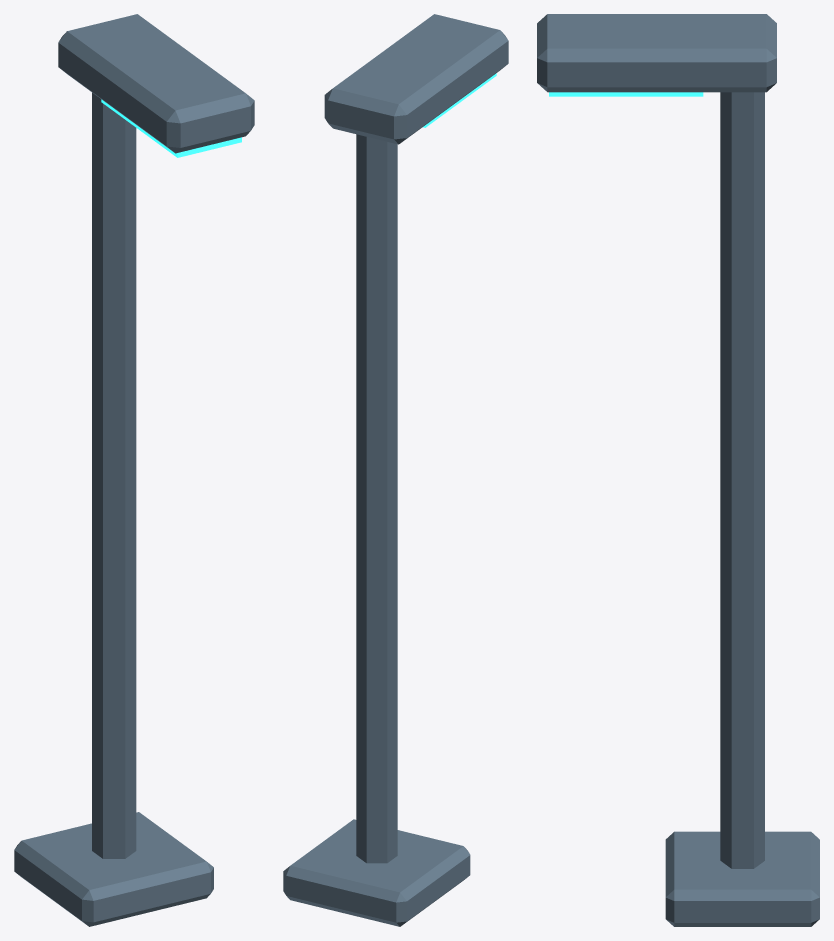
Rendered from SM_ENV_Street_001_Lamp.glb.
3 renders of one model, left to right at view 1: azimuth 30°, elevation 25°; view 2: azimuth 150°, elevation 25°; view 3: azimuth 270°, elevation 25°, orthographic. The views are drawn at different scales.
Parts seen in each view (by area): view 1: SM_ENV_Street_001_Lamp; view 2: SM_ENV_Street_001_Lamp; view 3: SM_ENV_Street_001_Lamp.
Boxes of the visible parts, left/top/right/bottom form: SM_ENV_Street_001_Lamp: left=14, top=14, right=254, bottom=926; SM_ENV_Street_001_Lamp: left=283, top=14, right=508, bottom=926; SM_ENV_Street_001_Lamp: left=537, top=14, right=819, bottom=926.
Bounding box in the file's own units: 0.45 × 2.79 × 0.825.
